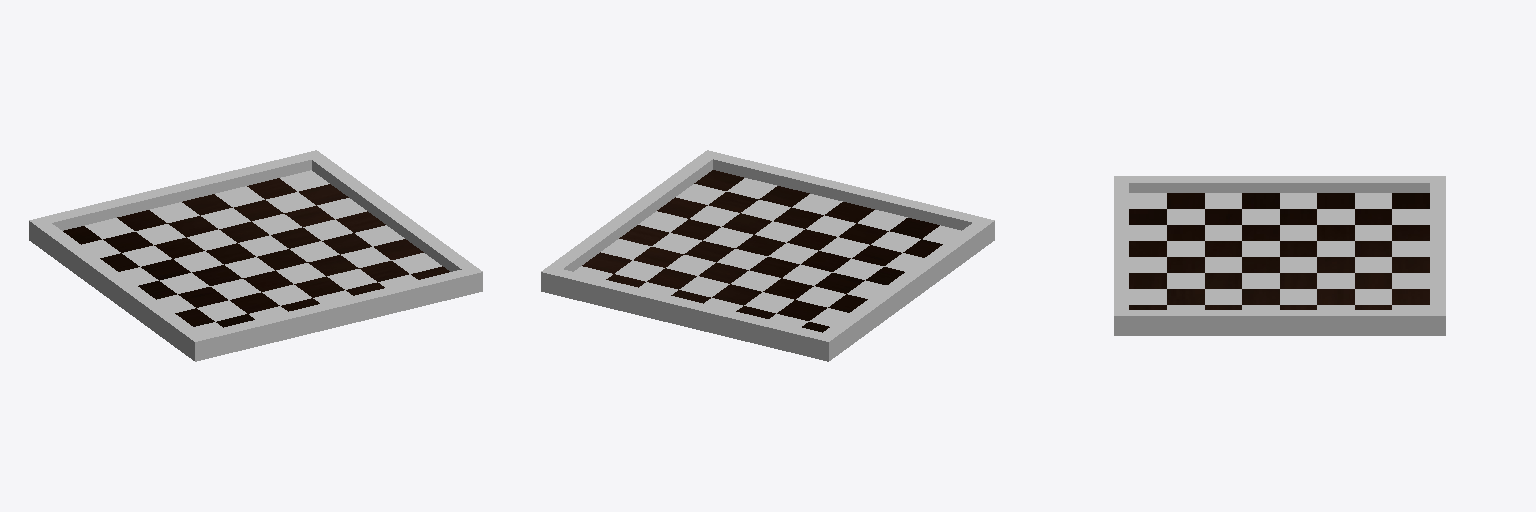
3 views of the same model, side by side, from view 1: azimuth 30°, elevation 25°; view 2: azimuth 150°, elevation 25°; view 3: azimuth 270°, elevation 25° (orthographic).
Visible parts, largest first — view 1: Cube; view 2: Cube; view 3: Cube.
Boxes of the visible parts, box(x1,y1,x2,y2) form: Cube: box(29, 150, 482, 361); Cube: box(541, 150, 994, 361); Cube: box(1114, 176, 1445, 335).
Bounding box in the file's own units: 2 × 0.1302 × 2.
3 materials, 1 textured.